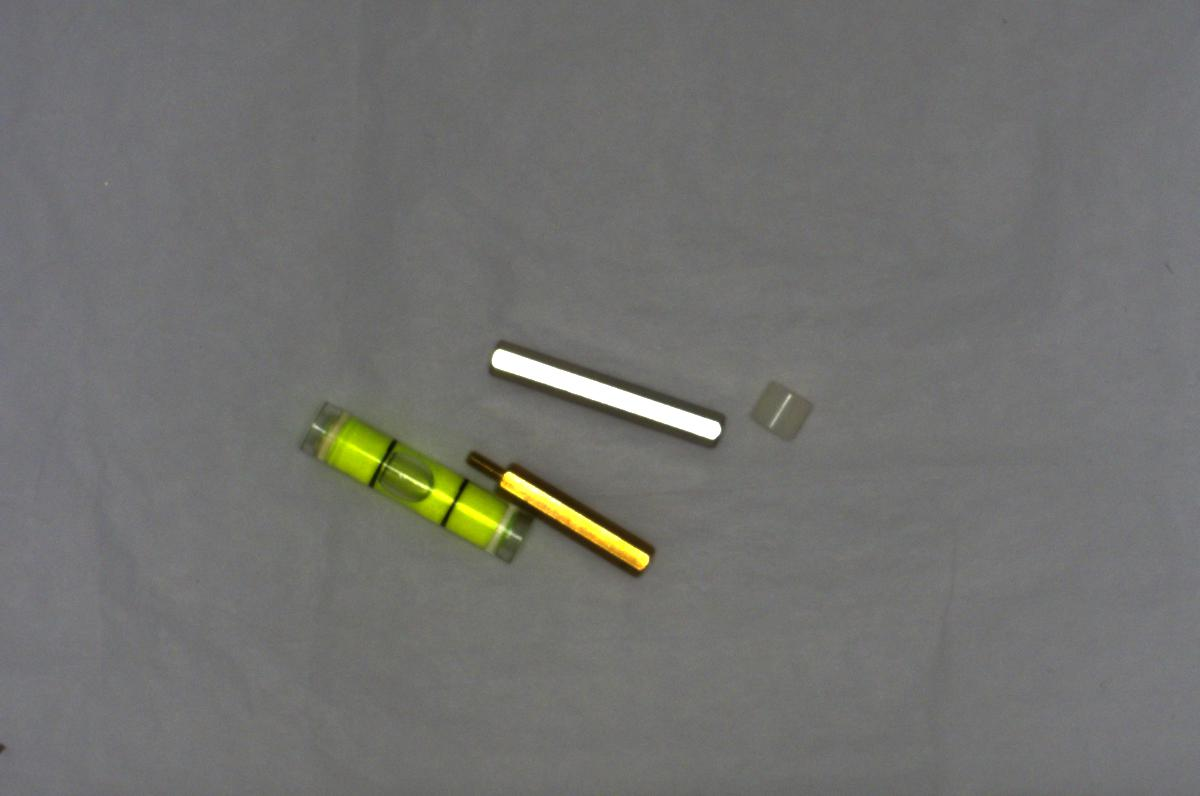Double hexagonal column: (478, 334, 726, 447)
Hexagon pillar: (454, 441, 665, 579)
Horizontal bubble: (290, 396, 537, 567)
Plastic cushion pillar: (746, 374, 817, 447)
